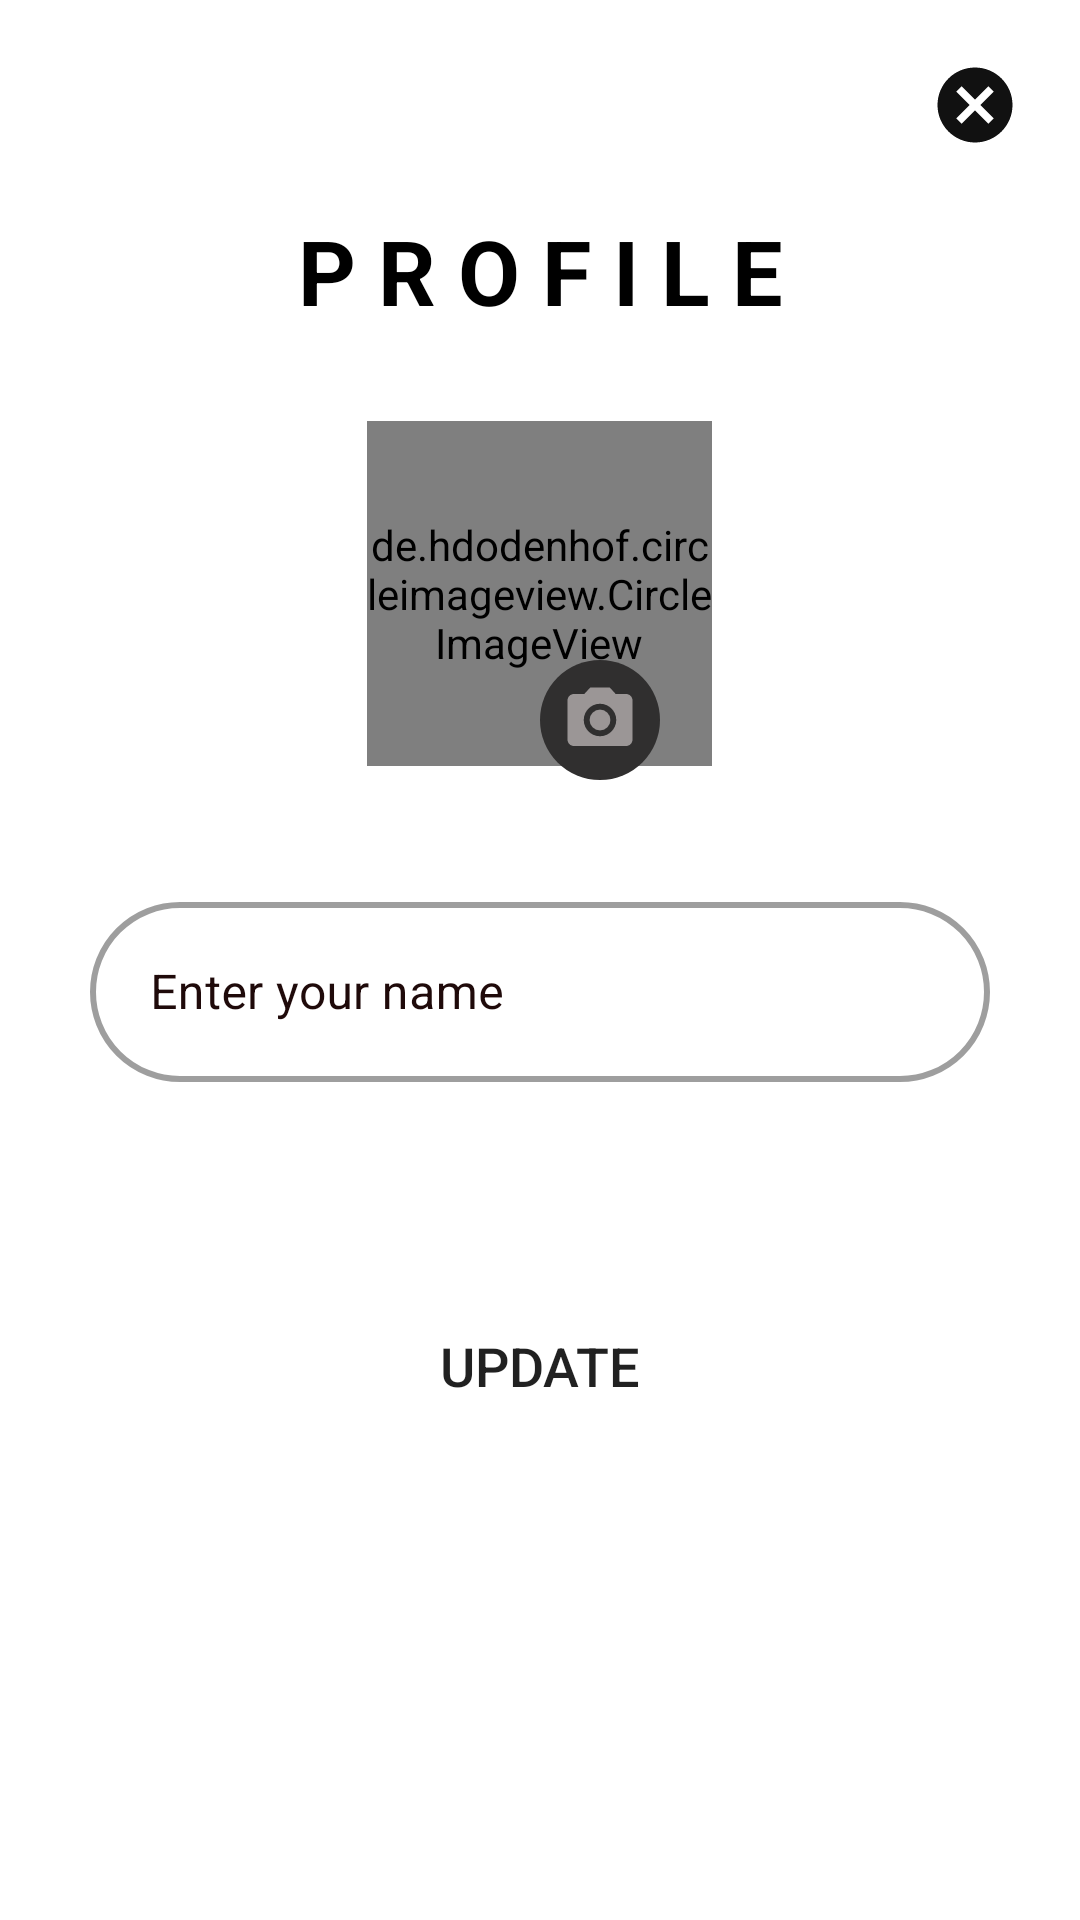

Icon click points for this 1080x1920 phone screenshot, format (x=x, y=y):
camera: (x=600, y=720)
cancel: (x=975, y=105)
